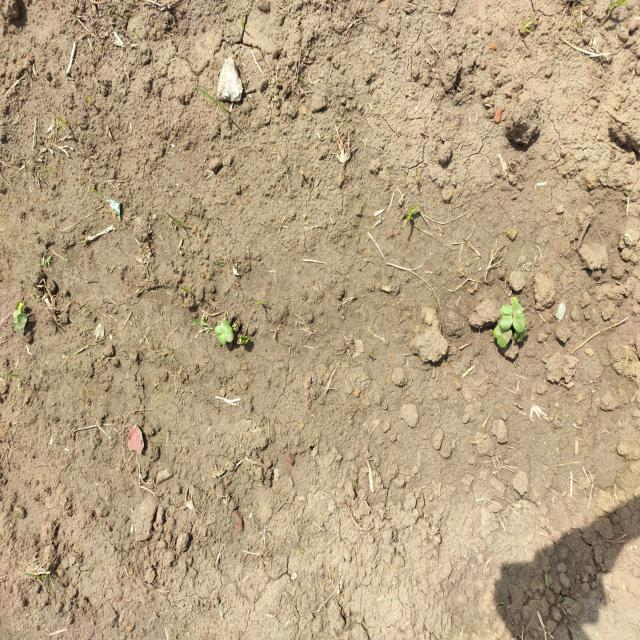seedling_s1: (512, 301, 525, 332), (220, 320, 234, 343), (500, 304, 512, 330), (497, 329, 512, 348), (14, 313, 27, 333), (214, 325, 226, 345), (13, 302, 24, 319), (493, 322, 503, 338)
